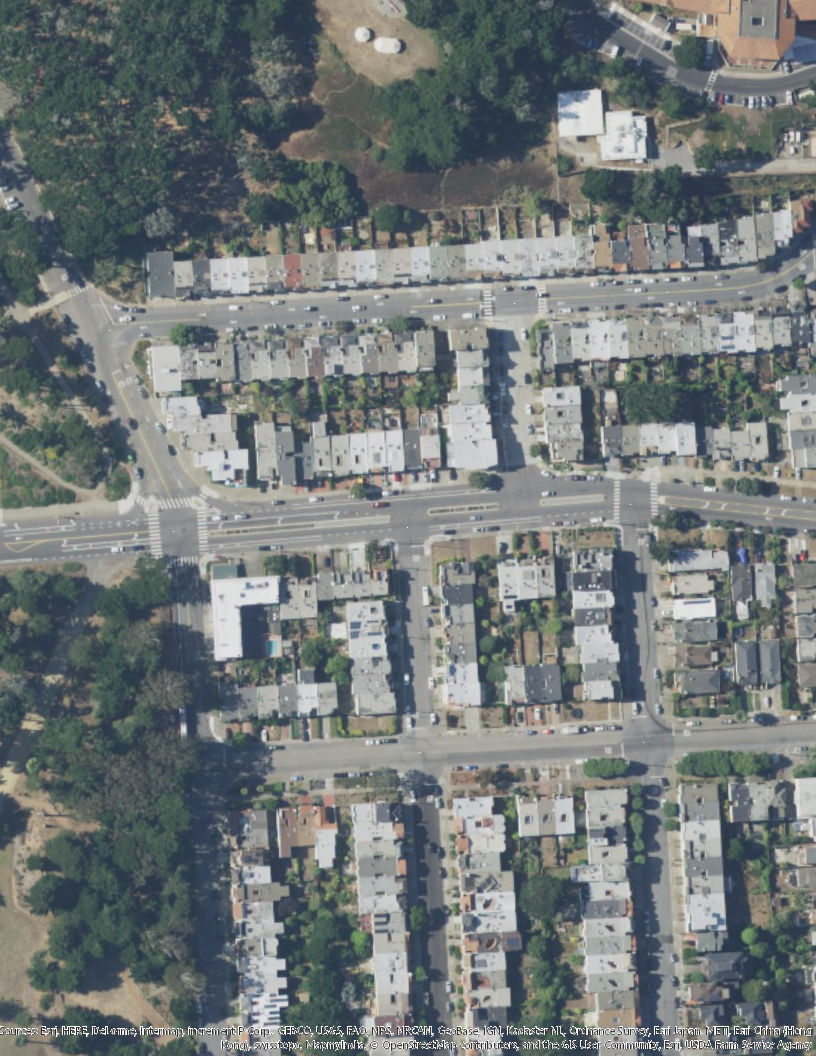zebracross: (147, 514, 164, 557), (195, 510, 209, 554), (610, 479, 621, 518), (479, 287, 493, 317), (648, 483, 660, 517), (158, 498, 194, 509), (167, 556, 199, 567), (536, 285, 548, 313), (134, 495, 147, 509)
